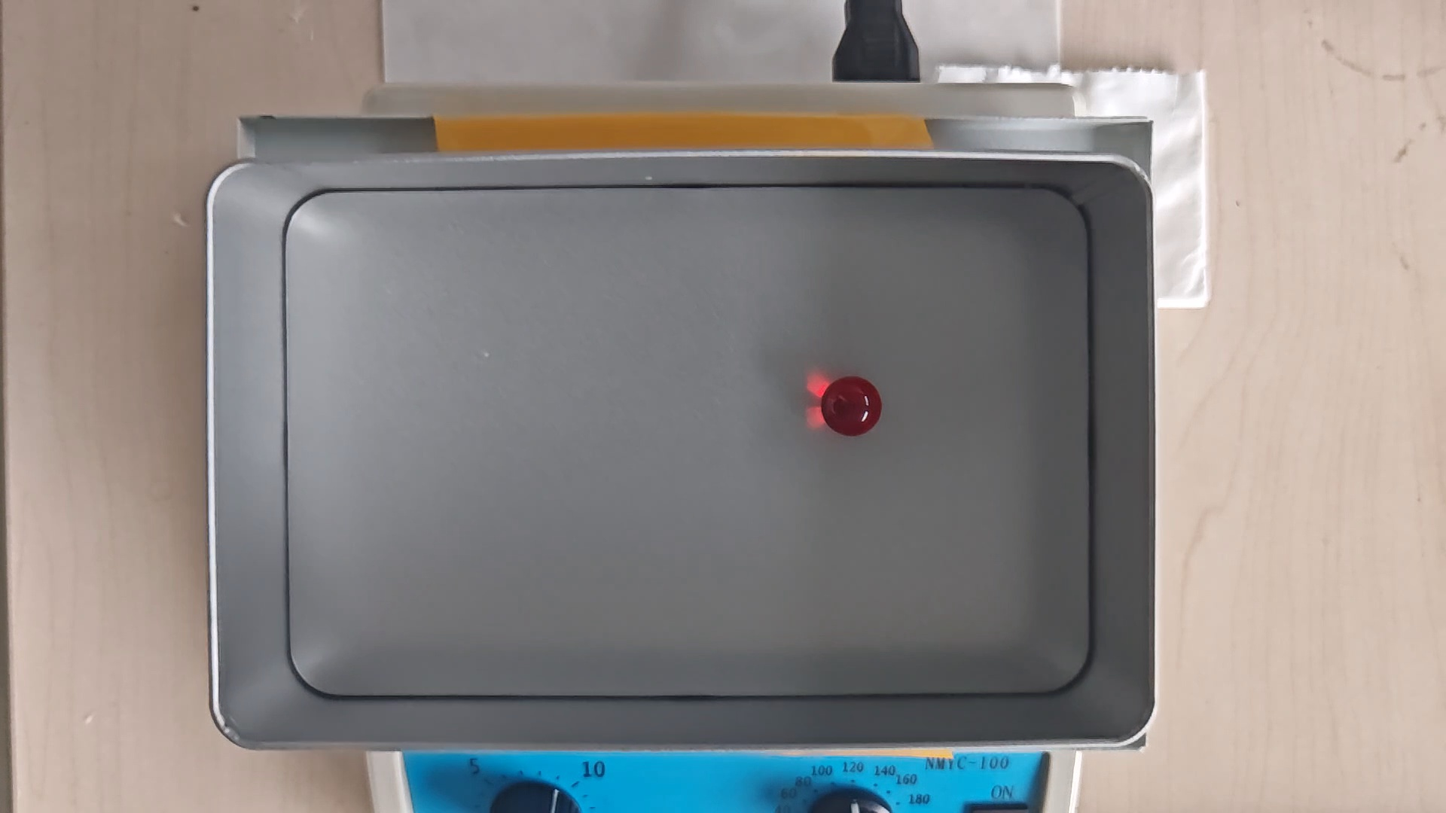ball: (822, 377, 883, 440)
container: (284, 189, 1092, 697)
